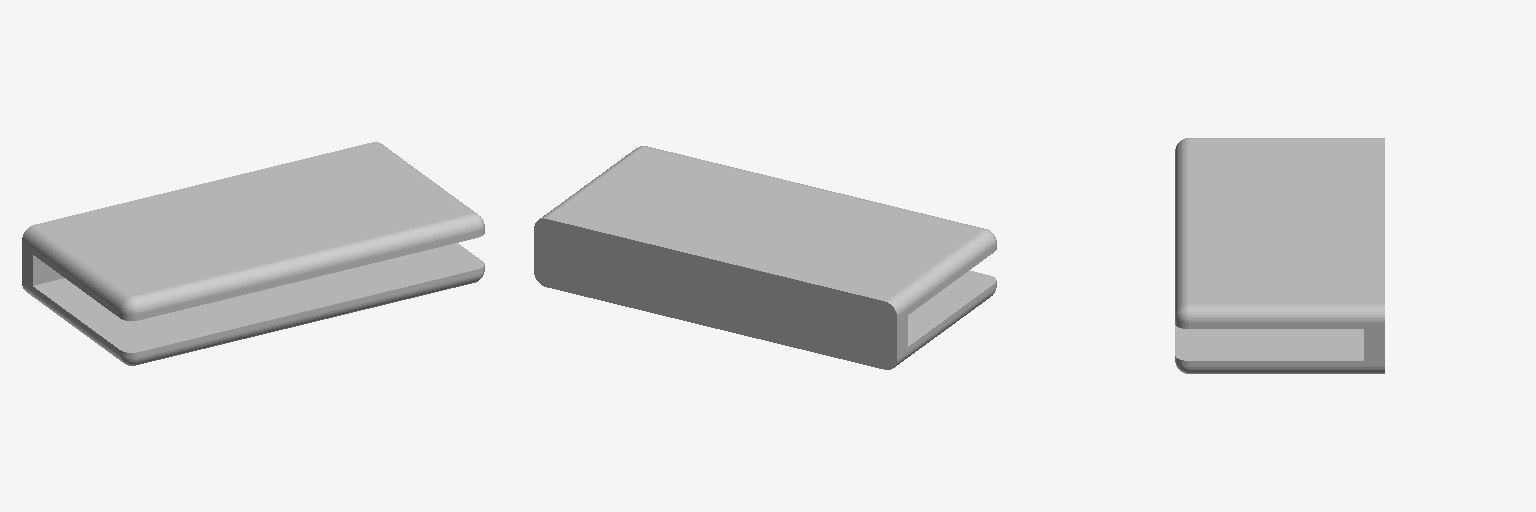
Rendered from holder.obj.
3 views of the same model, side by side, from view 1: azimuth 30°, elevation 25°; view 2: azimuth 150°, elevation 25°; view 3: azimuth 270°, elevation 25° (orthographic).
Visible parts, largest first — view 1: Body1; view 2: Body1; view 3: Body1.
Boxes of the visible parts, x1=… form: Body1: x1=22, y1=142, x2=484, y2=365; Body1: x1=534, y1=146, x2=996, y2=369; Body1: x1=1175, y1=138, x2=1384, y2=373.
Bounding box in the file's own units: 60 × 10.8 × 30.